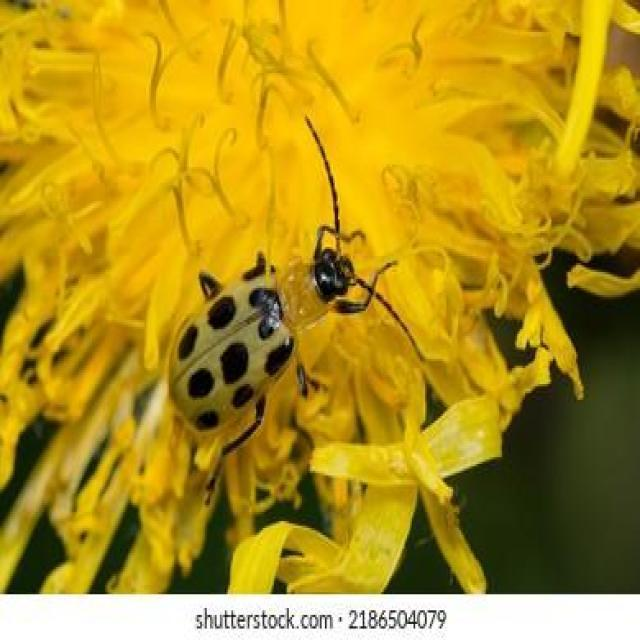gusano_verde: (167, 114, 425, 508)
